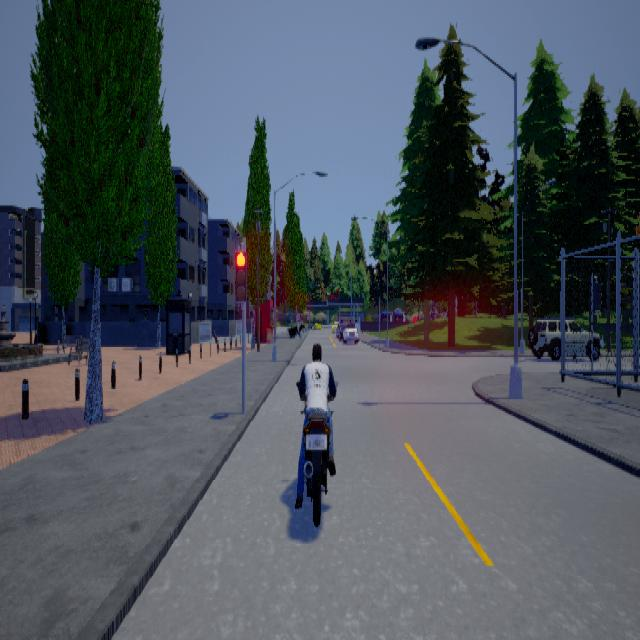motobike: (294, 342, 340, 529)
red_light: (237, 241, 248, 310)
vehicle: (529, 315, 603, 359), (333, 318, 360, 342)
